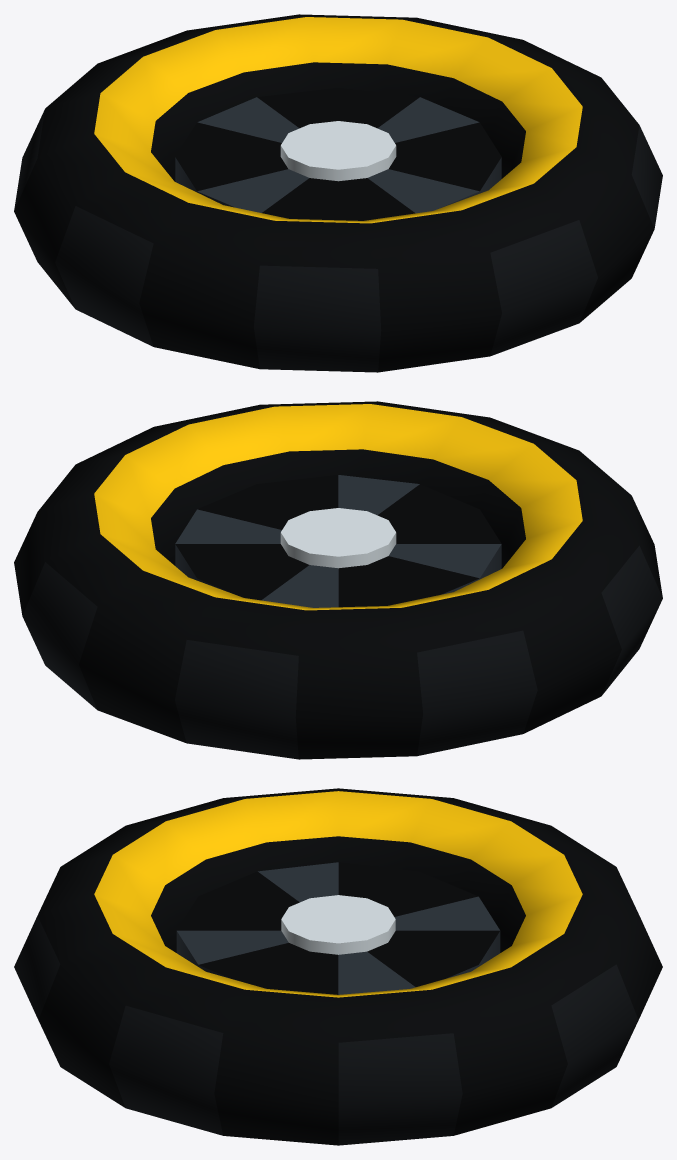
The model's file is tire.dae.
3 views of the same model, one above another, from view 1: azimuth 30°, elevation 25°; view 2: azimuth 150°, elevation 25°; view 3: azimuth 270°, elevation 25° (orthographic).
Visible parts, largest first — view 1: tire; view 2: tire; view 3: tire.
Part boxes in pixels (<box>): tire: <box>14,14,662,372</box>; tire: <box>14,401,662,759</box>; tire: <box>14,788,662,1145</box>.
Size of the model in its own units: 0.85 by 0.85 by 0.21.
